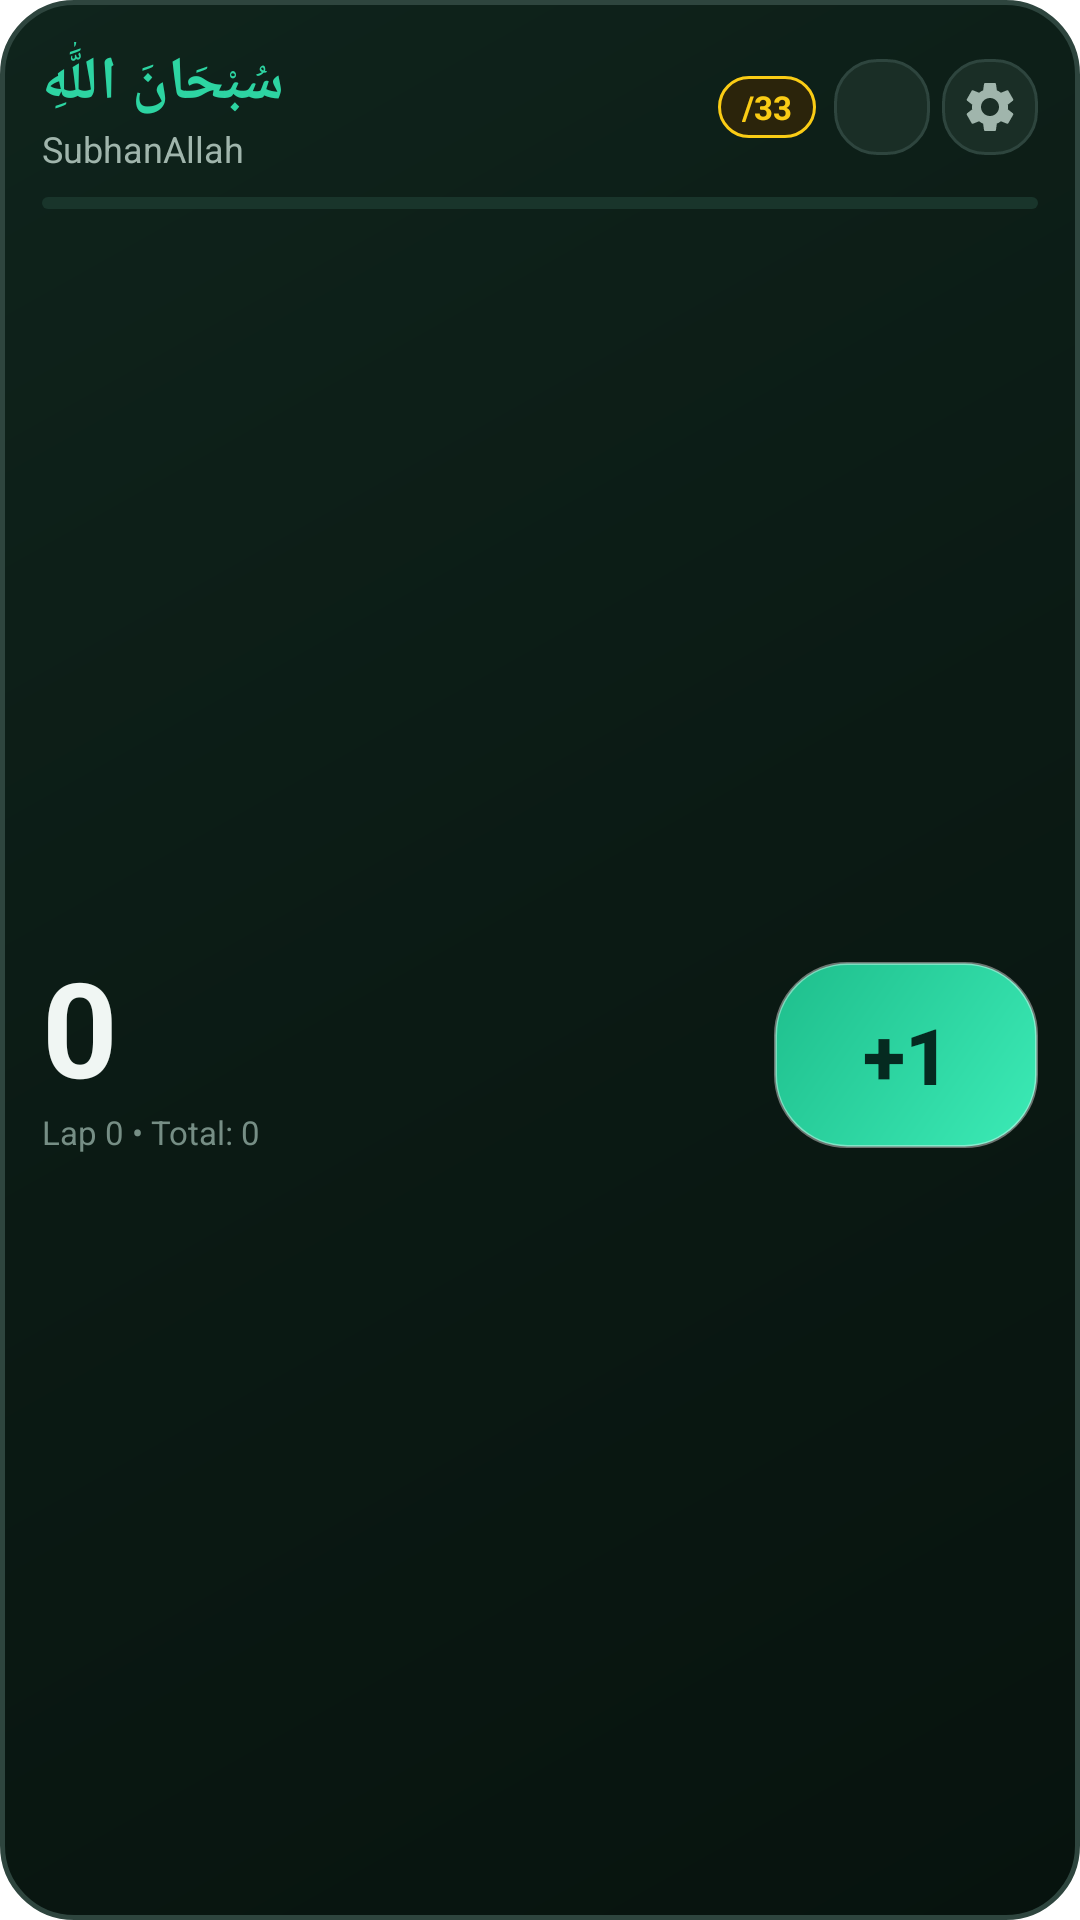

Named icons in this screenshot (1080×1920) and their bounding boxes, (x1, y1, x2, y2):
Widget Settings: (942, 59, 1038, 155)
